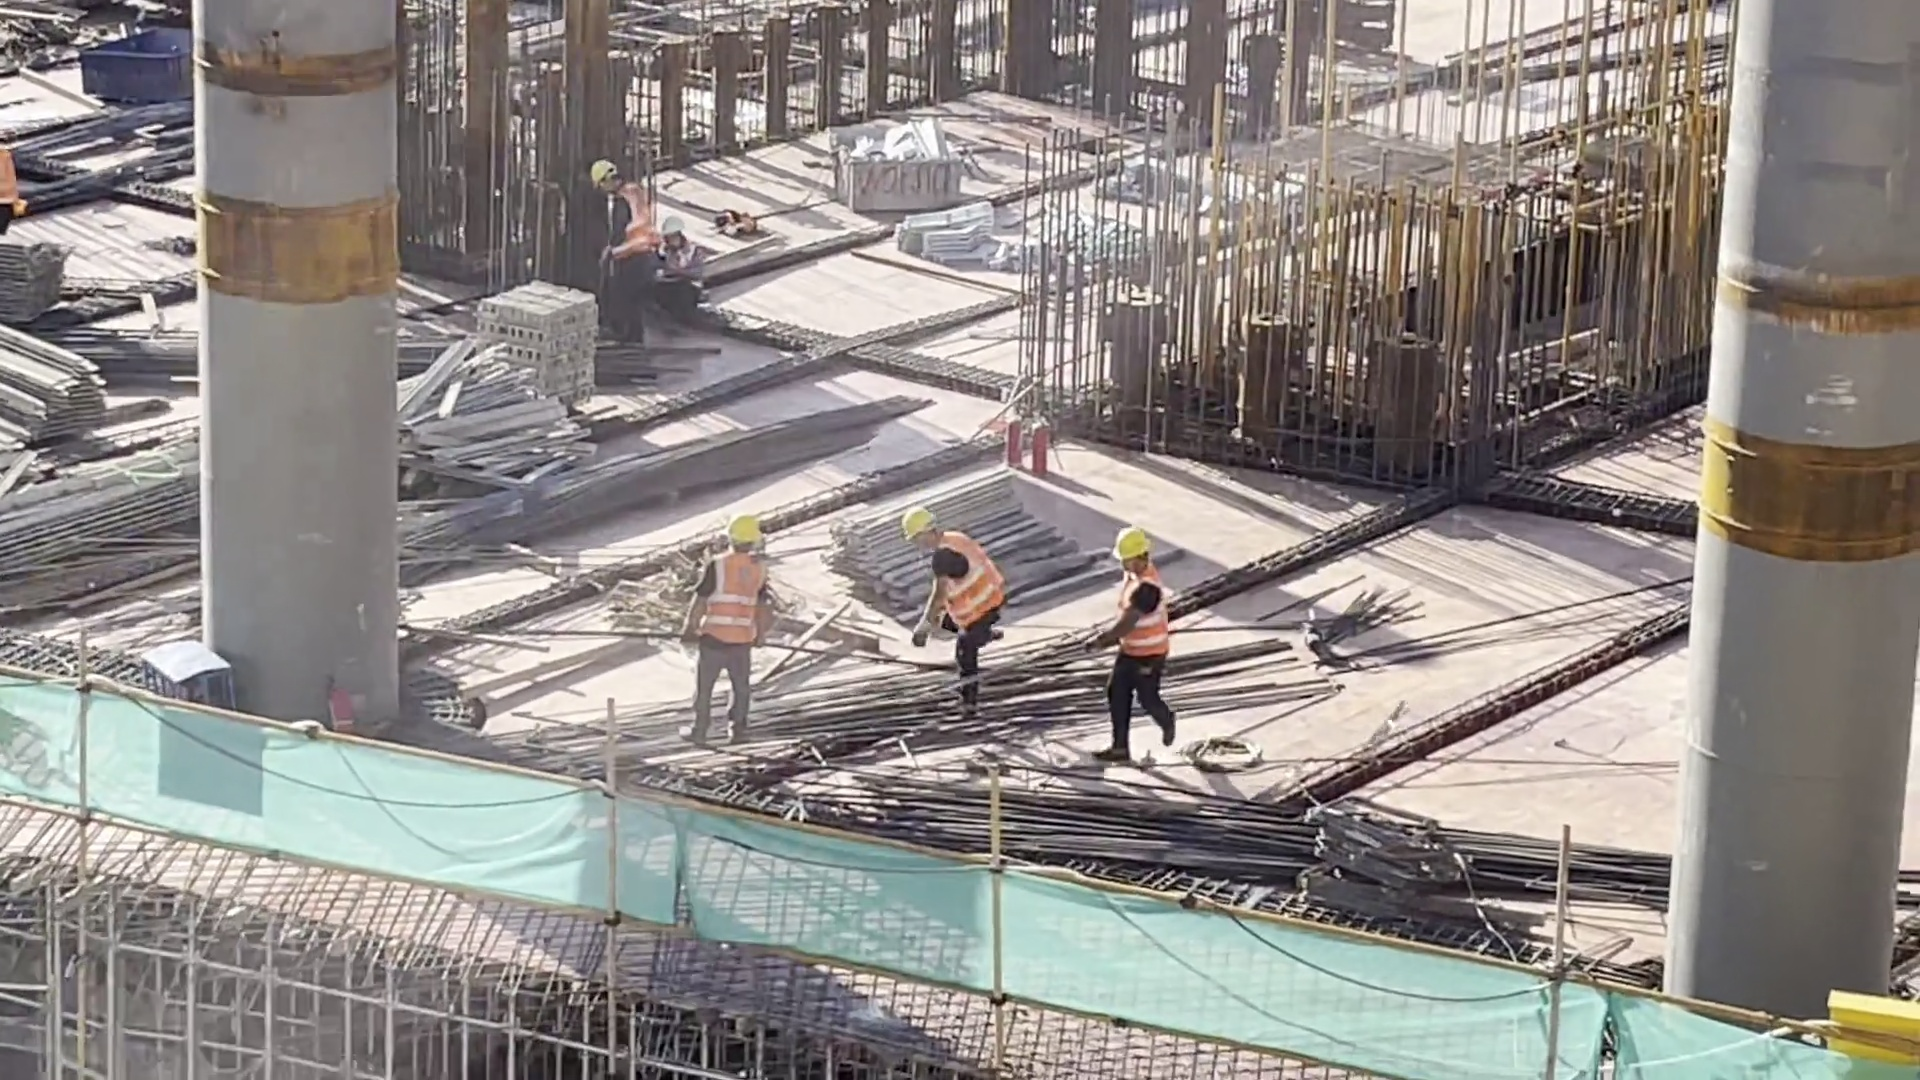helmet: (890, 504, 941, 541), (1102, 529, 1161, 561), (718, 508, 760, 546), (593, 146, 622, 200), (662, 216, 689, 241)
hopper: (815, 119, 975, 212), (78, 24, 191, 111)
person: (681, 501, 775, 746), (903, 495, 999, 711), (574, 160, 662, 360), (1101, 524, 1171, 743), (656, 223, 712, 312)
vest: (939, 538, 1012, 634), (697, 545, 764, 646), (1115, 576, 1176, 660), (608, 192, 655, 263)
wood: (833, 469, 1091, 616), (1, 337, 114, 453)
